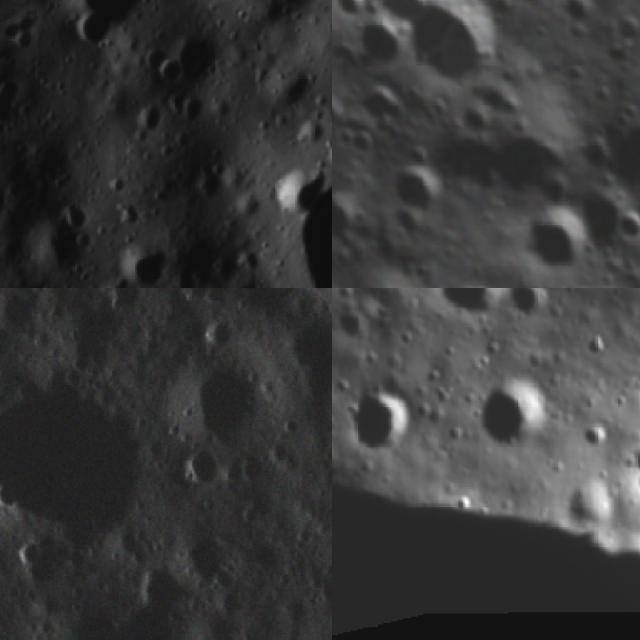crater: (332, 437, 640, 640), (0, 348, 178, 572), (146, 338, 278, 464), (389, 0, 526, 114), (405, 100, 529, 223), (480, 105, 590, 214), (502, 190, 596, 288), (1, 591, 185, 640), (465, 374, 557, 456), (158, 516, 242, 600), (558, 174, 640, 259), (378, 138, 456, 227), (346, 7, 418, 83), (332, 244, 452, 288), (590, 86, 640, 189), (260, 150, 332, 221), (342, 385, 412, 456), (109, 223, 175, 288), (348, 72, 412, 138), (466, 70, 531, 133), (63, 0, 160, 39), (432, 288, 509, 330), (0, 288, 52, 344), (363, 0, 438, 36), (332, 179, 372, 246), (178, 441, 226, 492), (146, 42, 194, 92), (337, 117, 382, 165), (503, 288, 555, 329), (553, 0, 605, 34), (608, 201, 640, 252), (0, 165, 23, 228), (332, 83, 357, 138), (332, 0, 379, 29), (608, 4, 640, 46), (9, 538, 46, 574), (585, 73, 620, 110), (96, 288, 142, 311), (576, 425, 612, 453), (581, 332, 610, 366), (622, 438, 640, 475), (442, 279, 501, 288), (321, 288, 332, 325), (631, 464, 640, 504), (332, 243, 341, 281)
